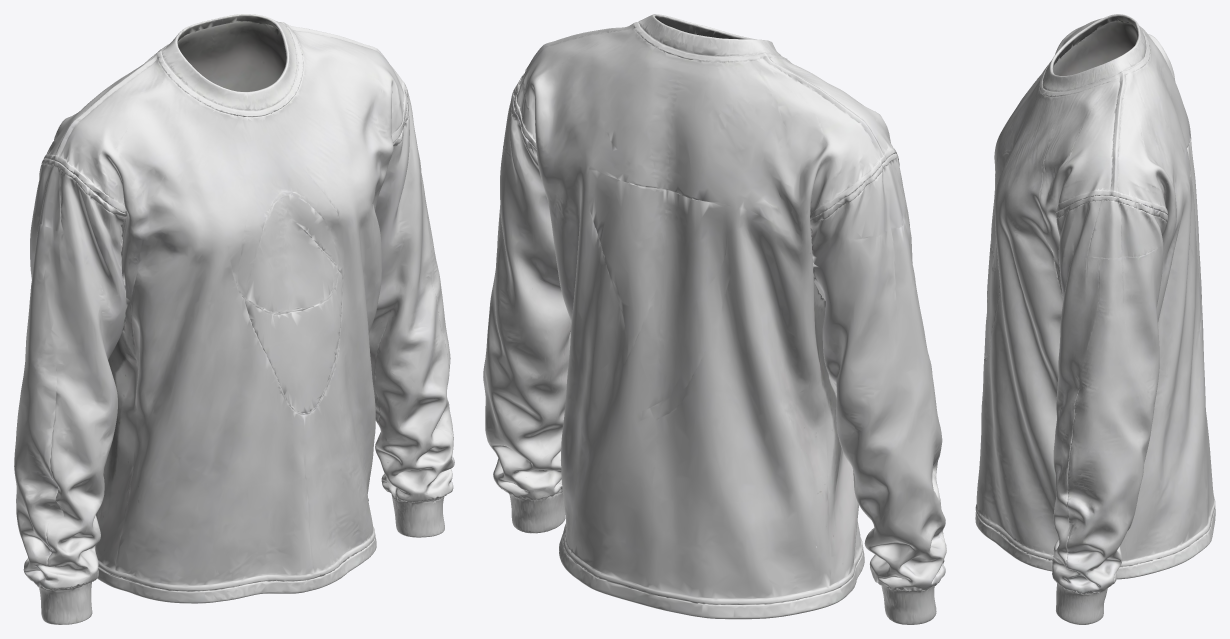
Rendered from longsleeve-blank.glb.
The picture shows the model from 3 angles, left to right: view 1: azimuth 30°, elevation 25°; view 2: azimuth 150°, elevation 25°; view 3: azimuth 270°, elevation 25°; orthographic projection. The views are drawn at different scales.
Parts seen in each view (by area): view 1: tripo_node_0750a40b-9c6d-480e-a683-2f0e68ce68d0; view 2: tripo_node_0750a40b-9c6d-480e-a683-2f0e68ce68d0; view 3: tripo_node_0750a40b-9c6d-480e-a683-2f0e68ce68d0.
Part boxes in pixels (left/top/right/bottom): tripo_node_0750a40b-9c6d-480e-a683-2f0e68ce68d0: left=14, top=14, right=454, bottom=624; tripo_node_0750a40b-9c6d-480e-a683-2f0e68ce68d0: left=483, top=14, right=946, bottom=624; tripo_node_0750a40b-9c6d-480e-a683-2f0e68ce68d0: left=975, top=14, right=1215, bottom=624.
Bounding box in the file's own units: 0.6682 × 0.8014 × 0.348.
1 material, 1 textured.
